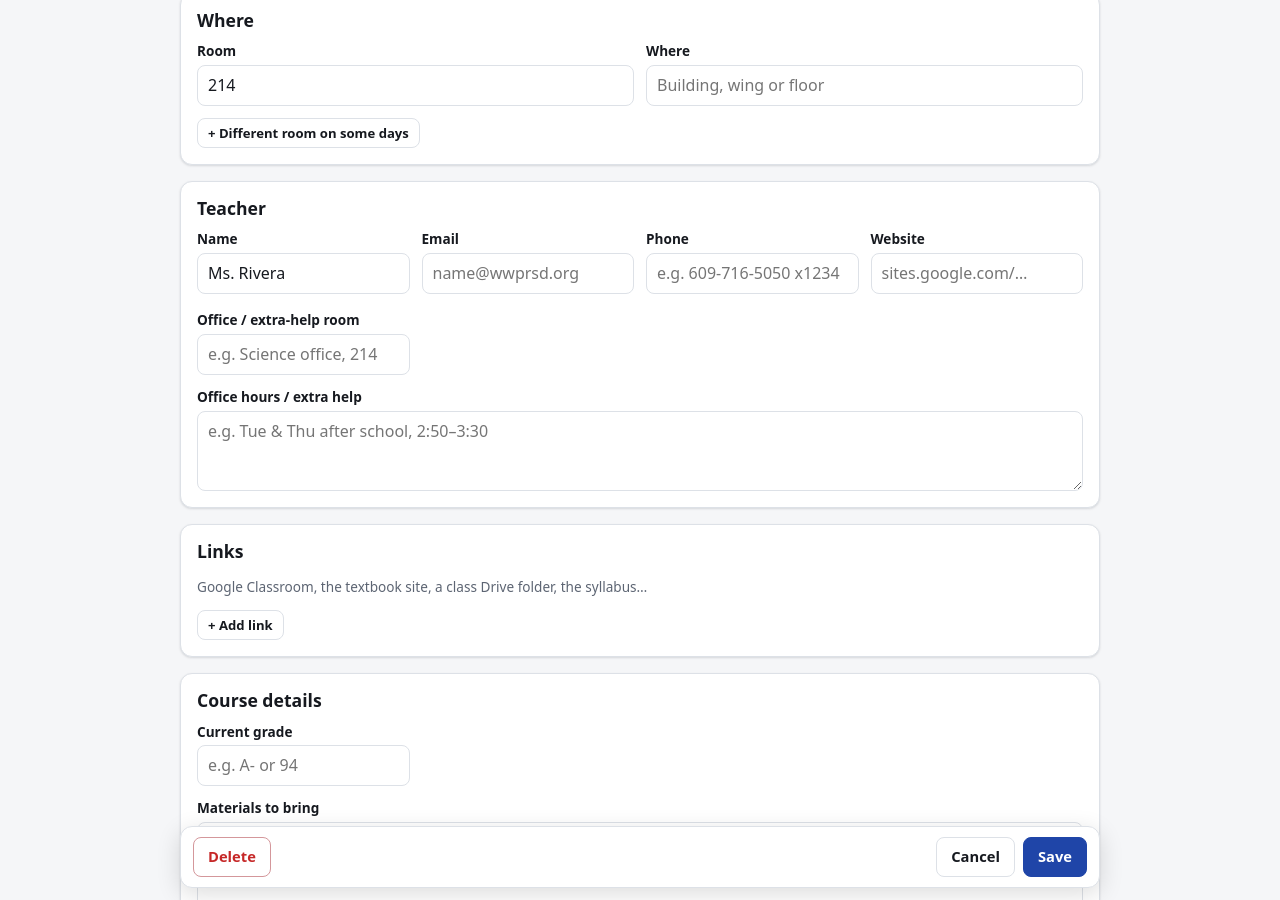
ClassEditPage: unsaved changes › "Discard" after Cancel leaves without asking a second time
(page scrolled)
In the text box labelled "Office hours / extra help": (640, 451) [197,411,1083,491], type "Tue after school"
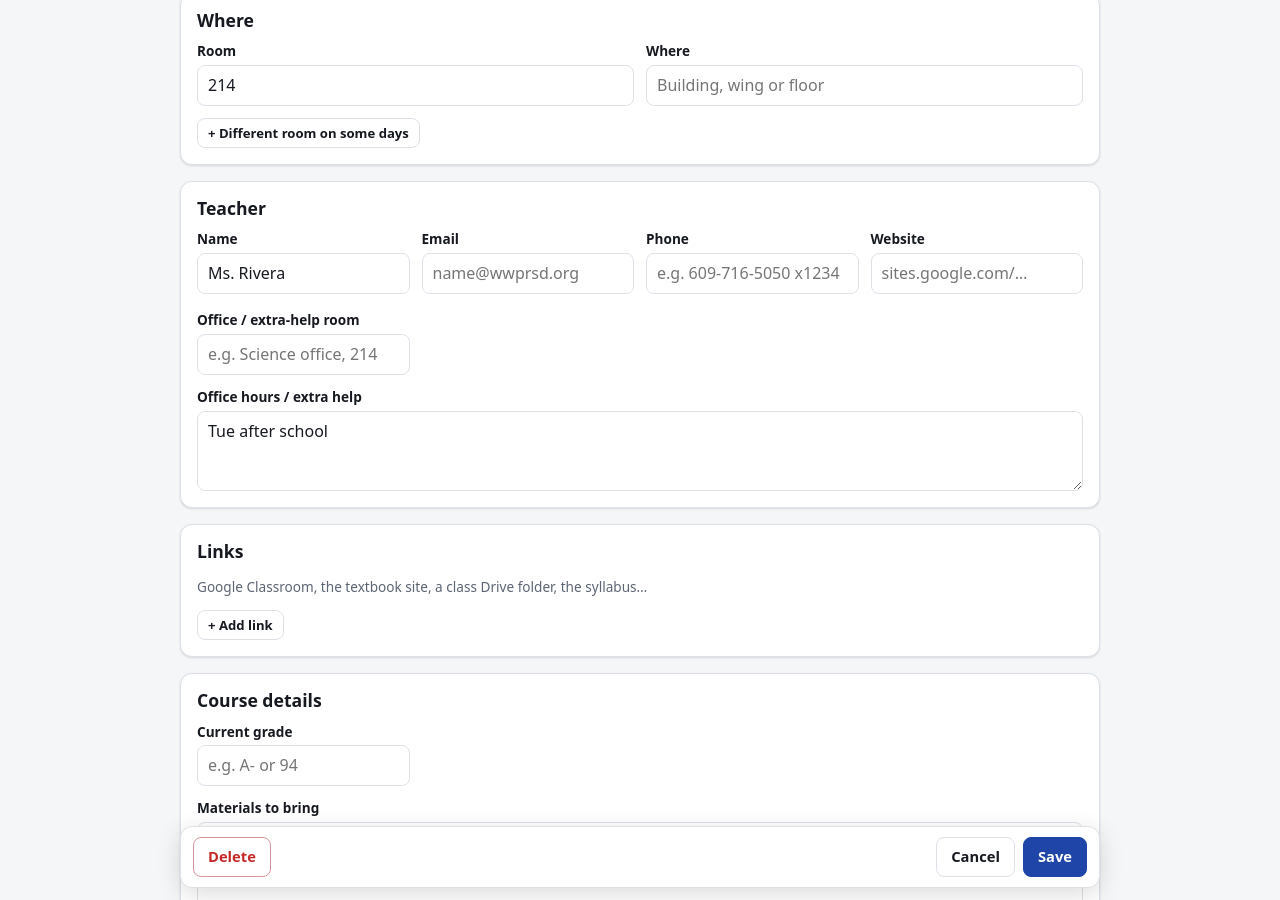
Click the button "Cancel": (976, 857) [936,838,1015,877]
(page scrolled)
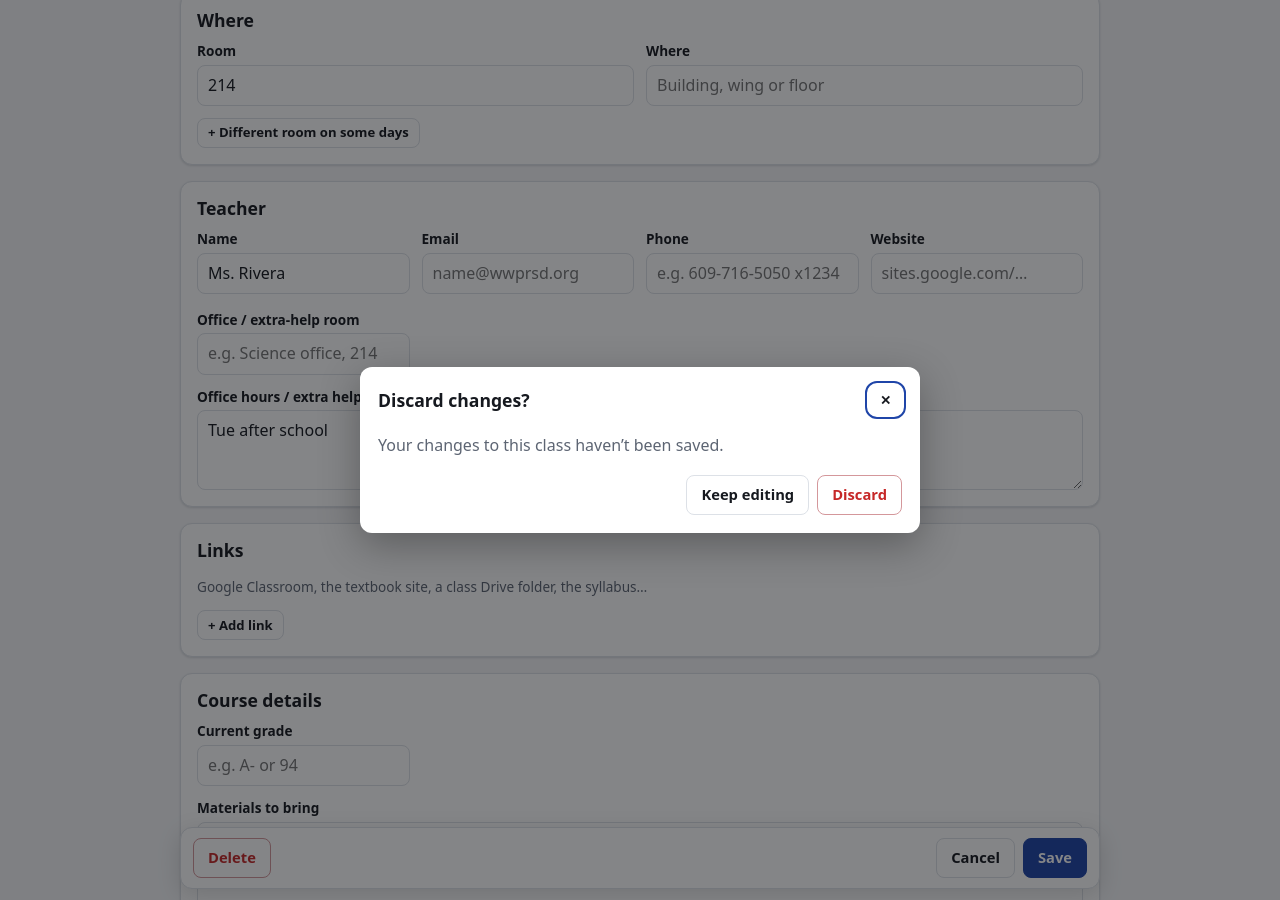
Expected: the heading "Discard changes?" is shown, [378,390,530,411]
Click the button "Discard": (860, 495) [817,475,902,515]
(page scrolled)
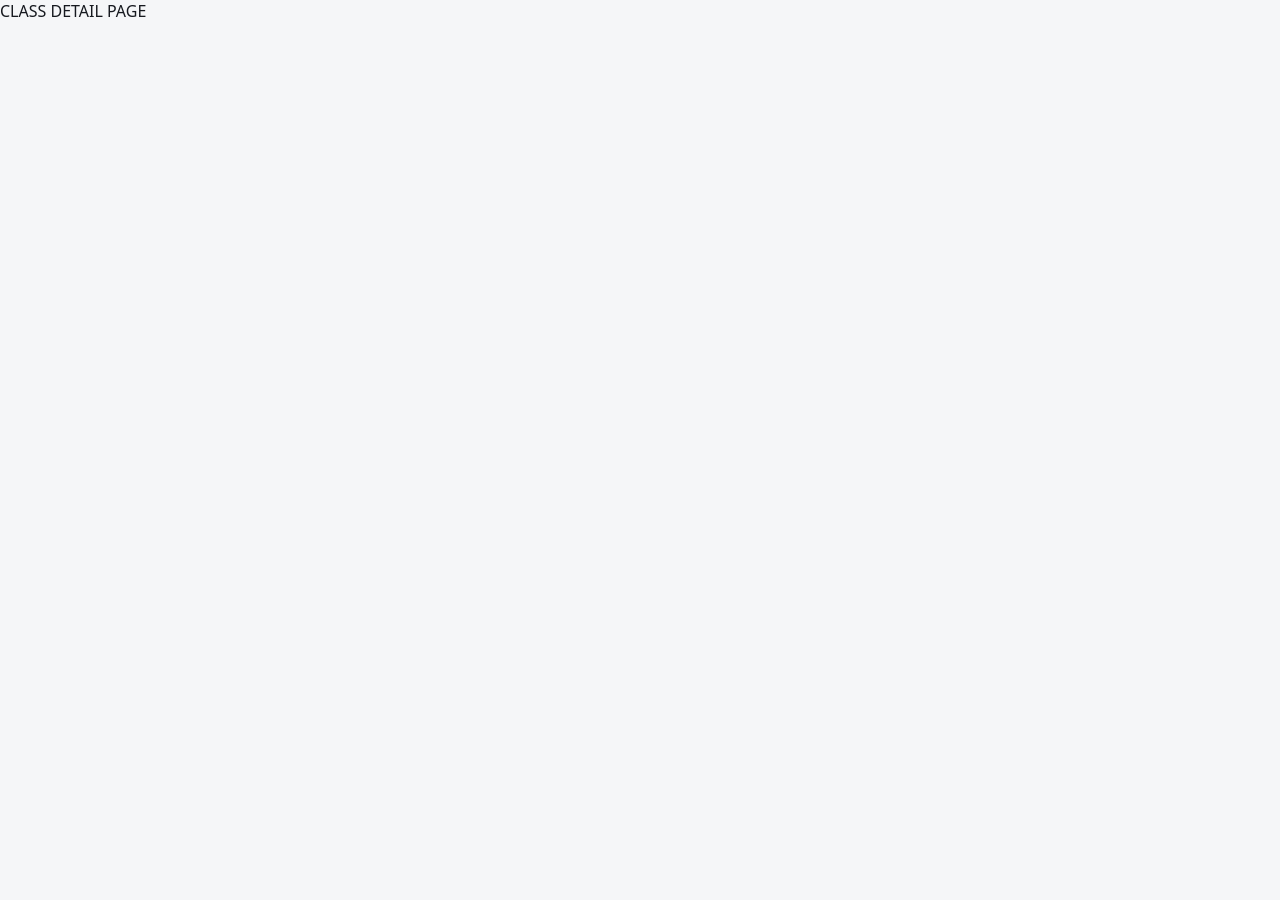
Expected: the heading "Where" is gone
